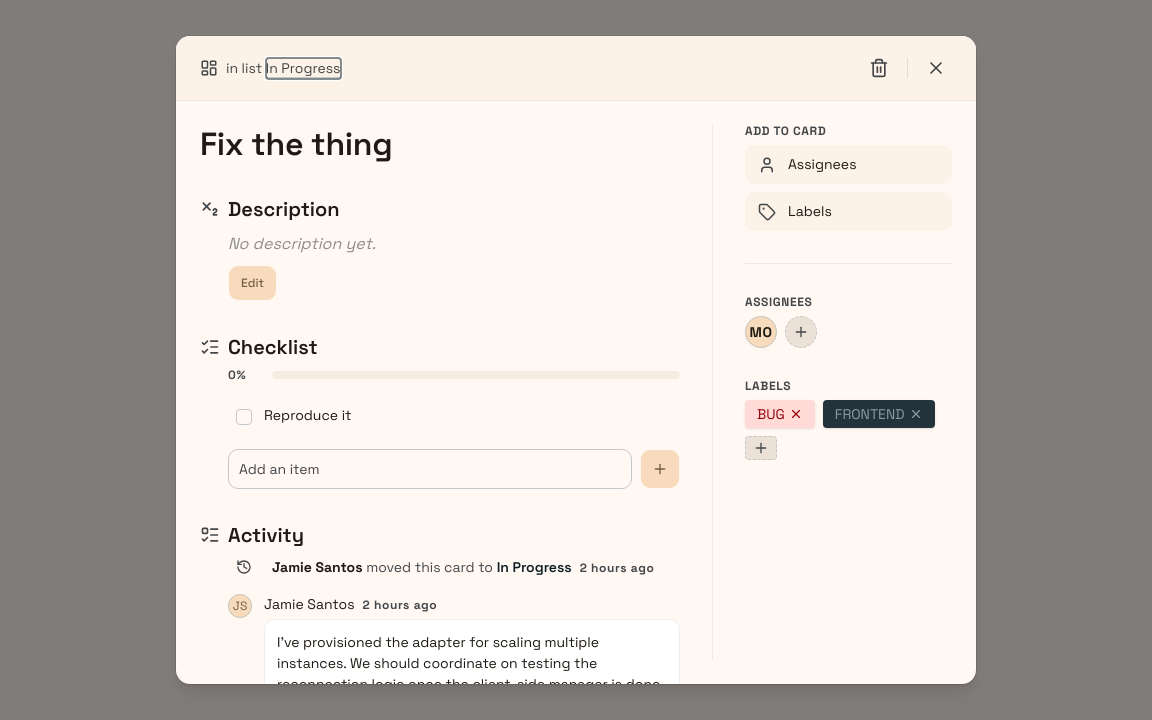
CardDetailModal › adds a new label via the label adder
The width and height of the screenshot is (1152, 720).
Click the button "Labels" at (848, 212), box [745,192,952,231]
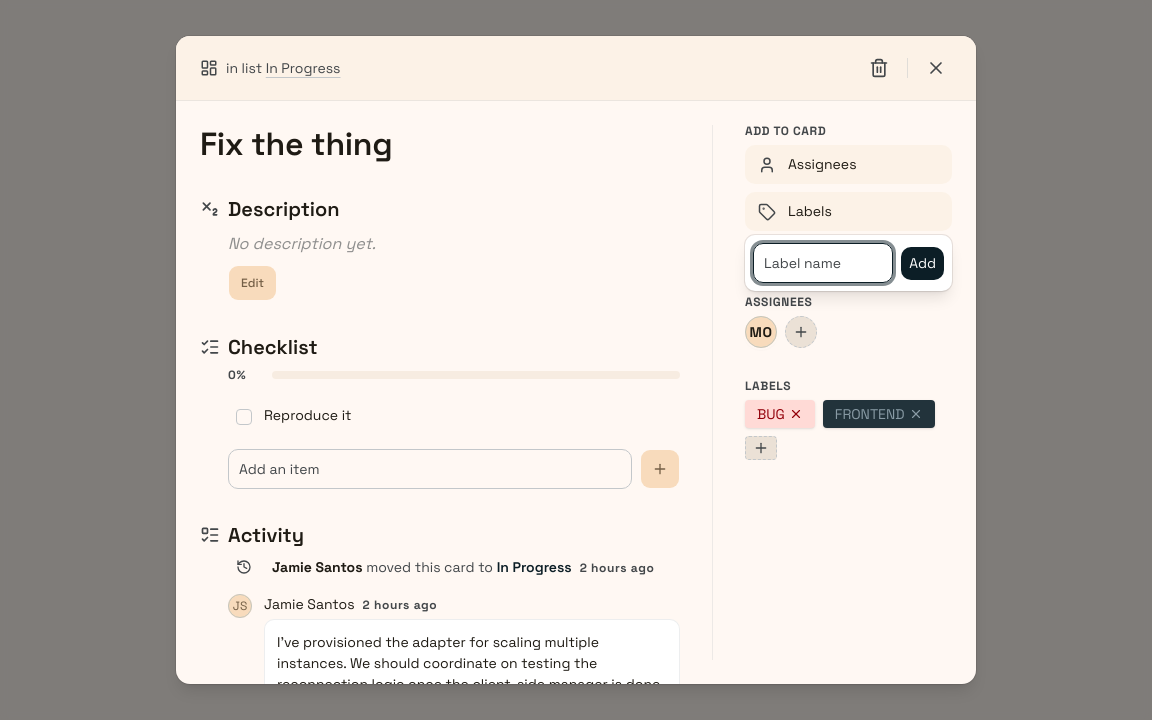
Type "Design" into the field named "New label name" at (823, 263), box [753,243,893,283]
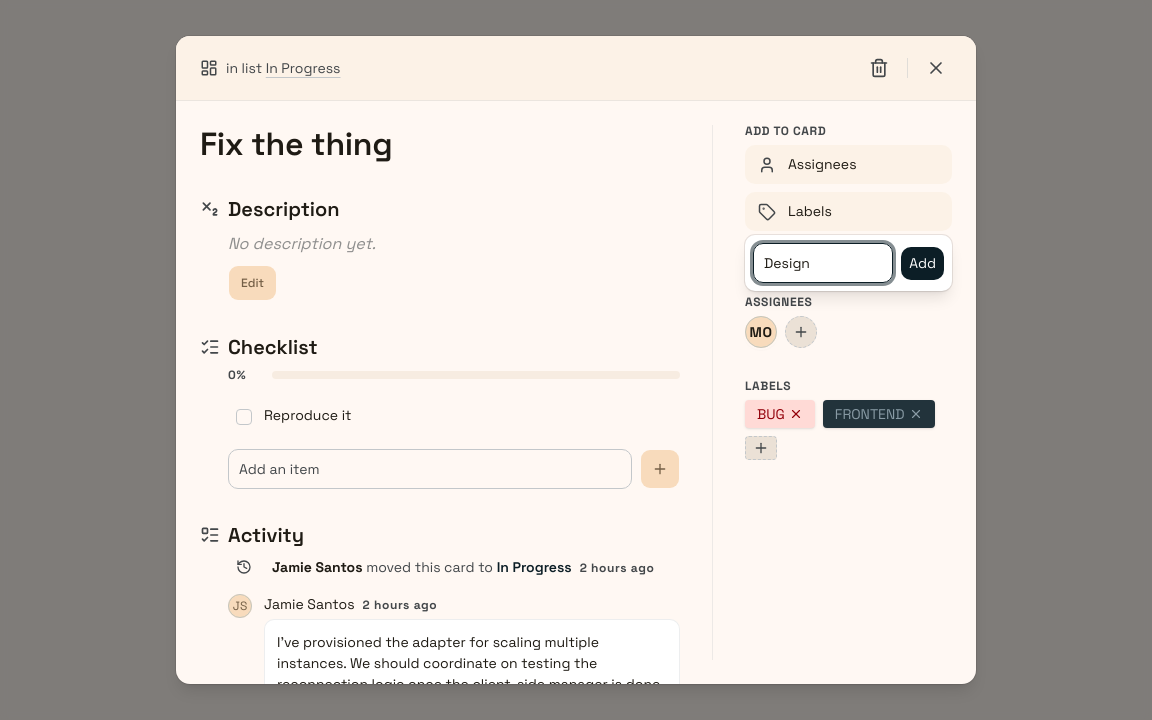
Click the button "Add" at (923, 263), box [901,246,944,280]
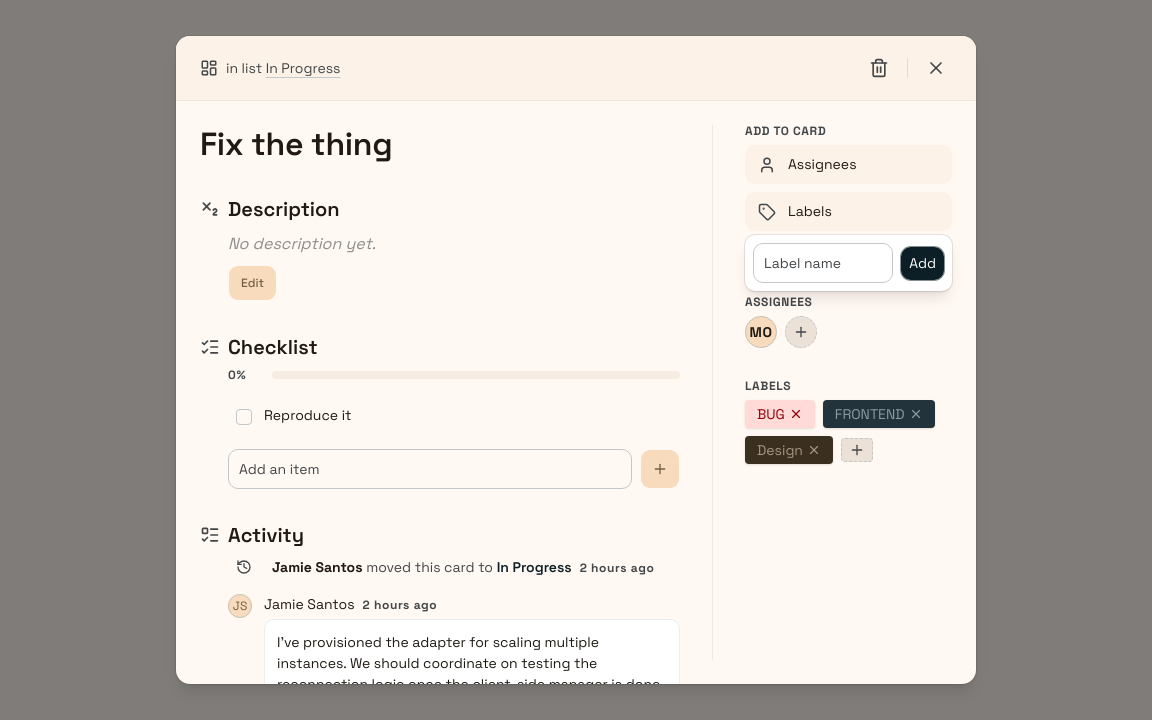
Check: the button "Design" is shown, box [745,436,833,464]
